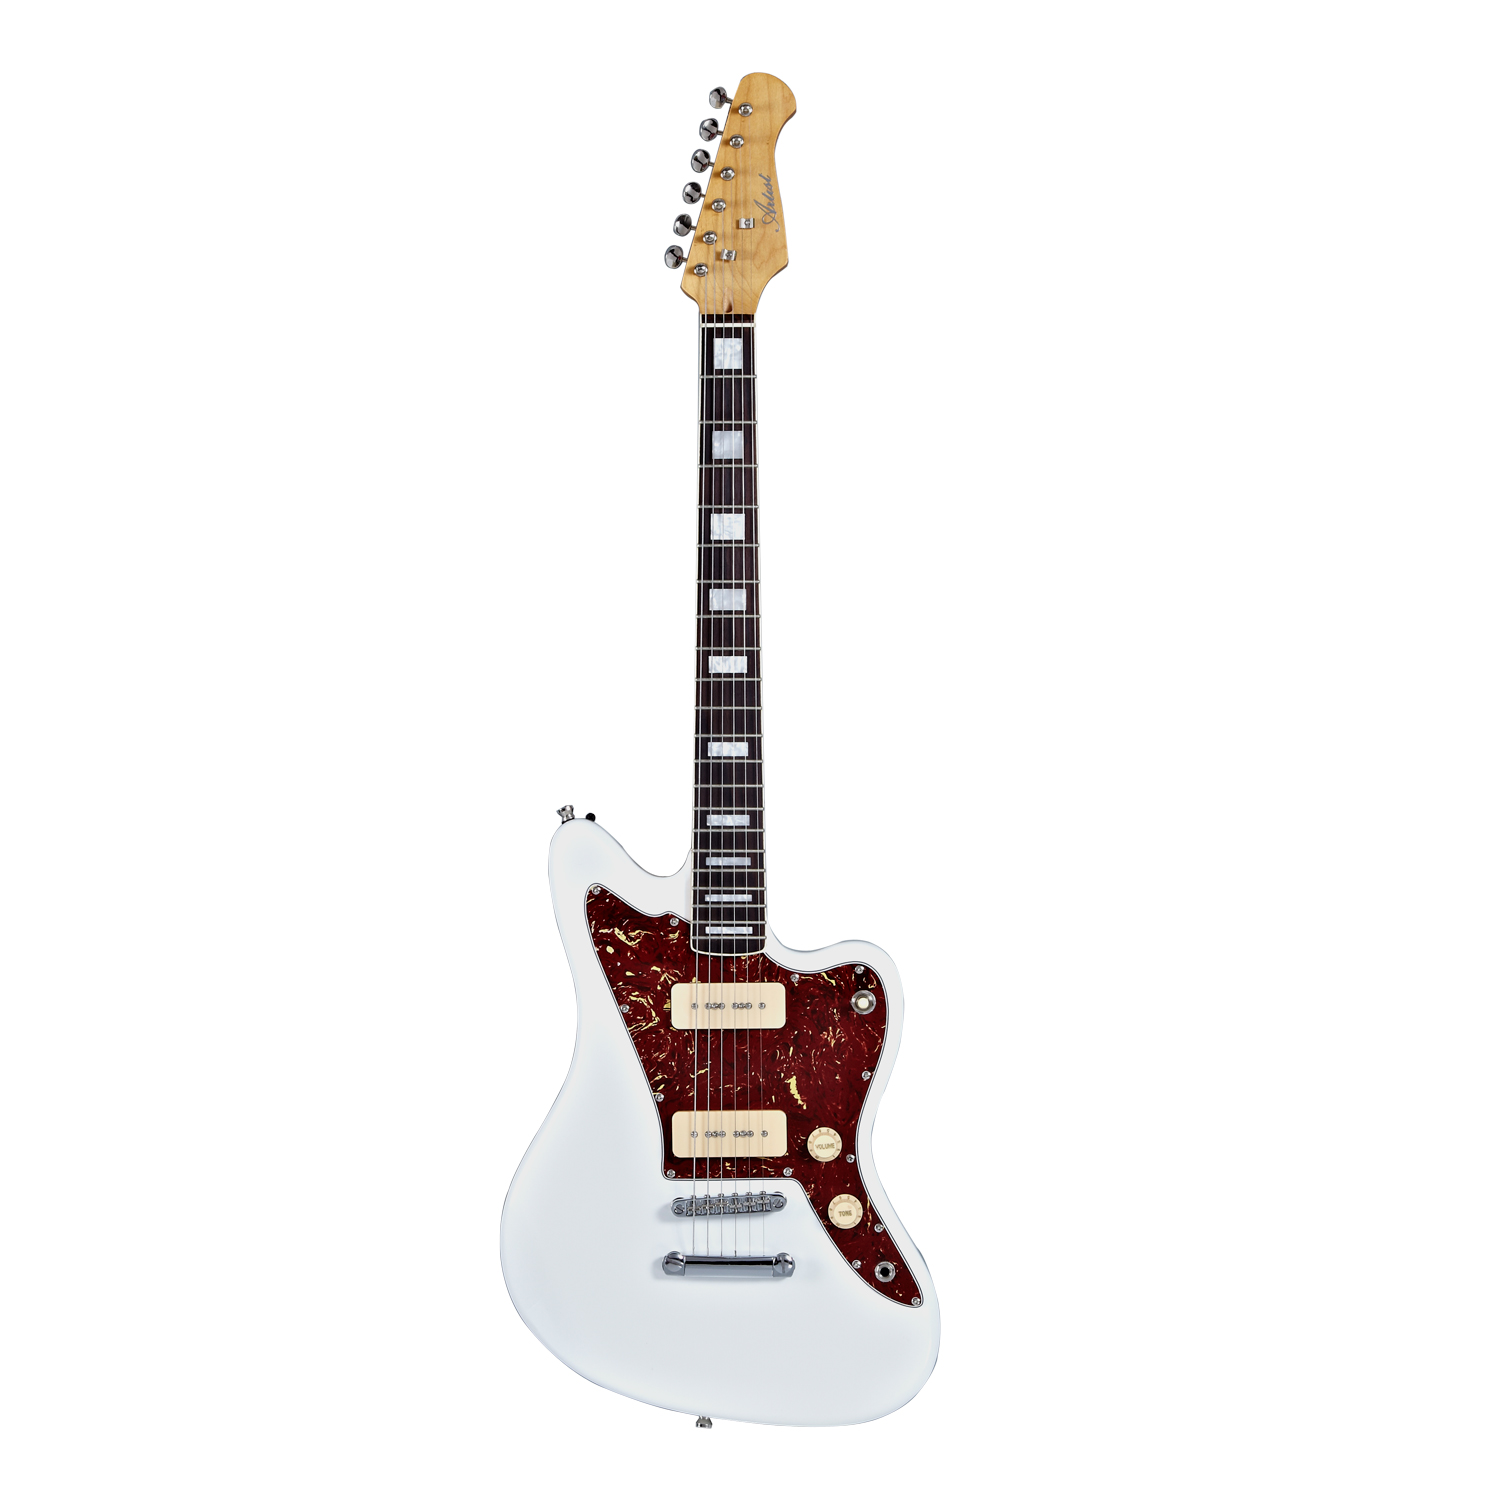ElectricGuitar: (496, 70, 945, 1423)
